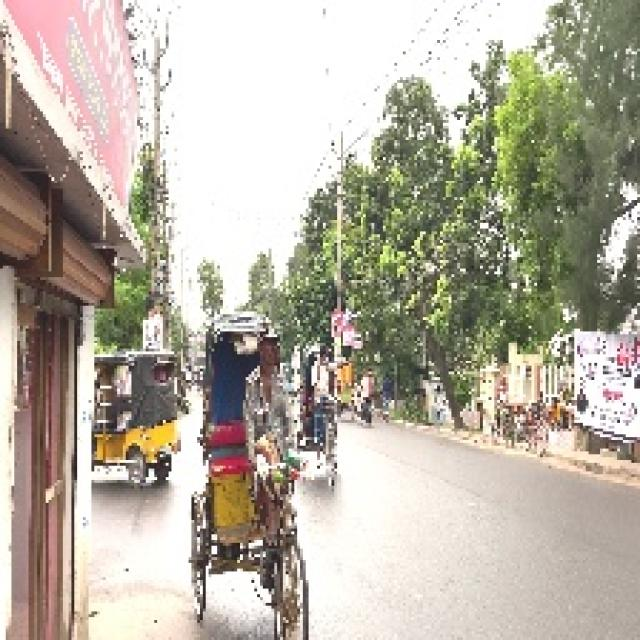rickshaw: (203, 312, 317, 629), (91, 326, 183, 484), (300, 329, 345, 481)
